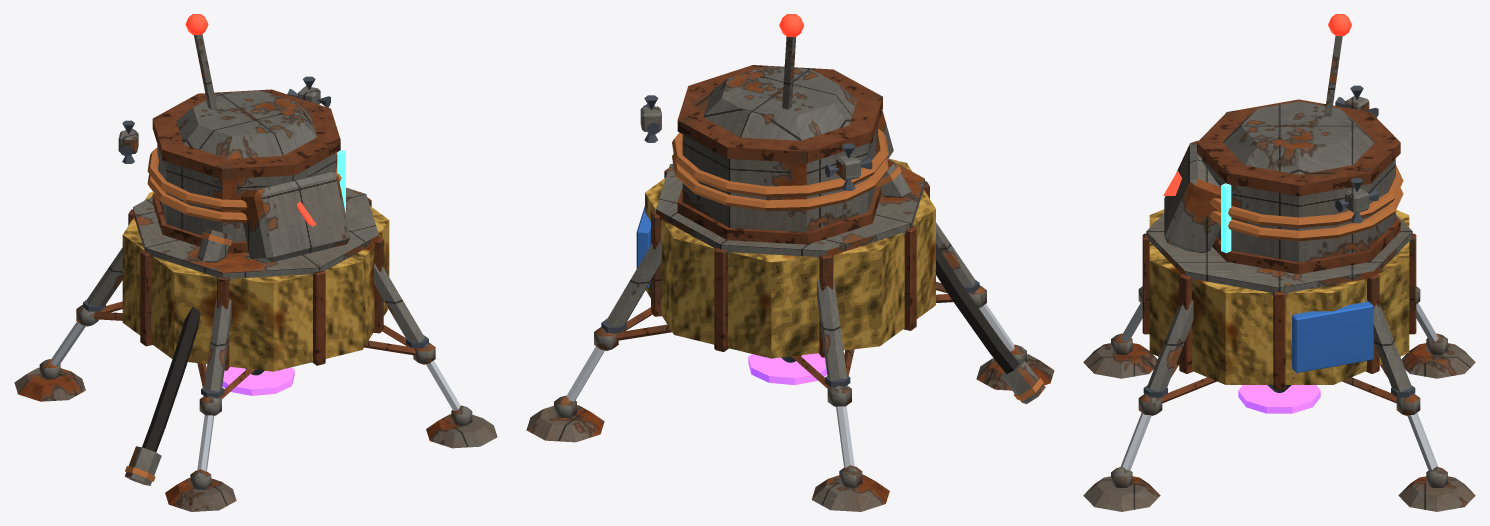
Rendered from pod.glb.
3 views of the same model, side by side, from view 1: azimuth 30°, elevation 25°; view 2: azimuth 150°, elevation 25°; view 3: azimuth 270°, elevation 25° (orthographic). The views are drawn at different scales.
Parts seen in each view (by area): view 1: pod; view 2: pod; view 3: pod.
Boxes of the visible parts, x1,y1,x2,y2 form: pod: [14, 14, 497, 511]; pod: [526, 14, 1054, 511]; pod: [1083, 14, 1475, 511].
Bounding box in the file's own units: 1.7 × 1.82 × 1.62.
Materials: 11 (3 with a texture image).
